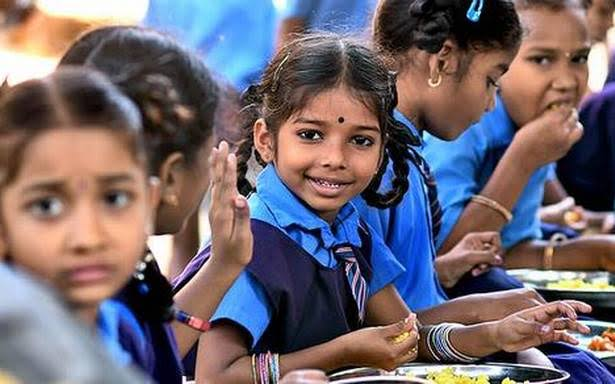student: (61, 21, 230, 234), (1, 78, 154, 298), (244, 36, 396, 212), (375, 1, 507, 136), (491, 4, 604, 133)
